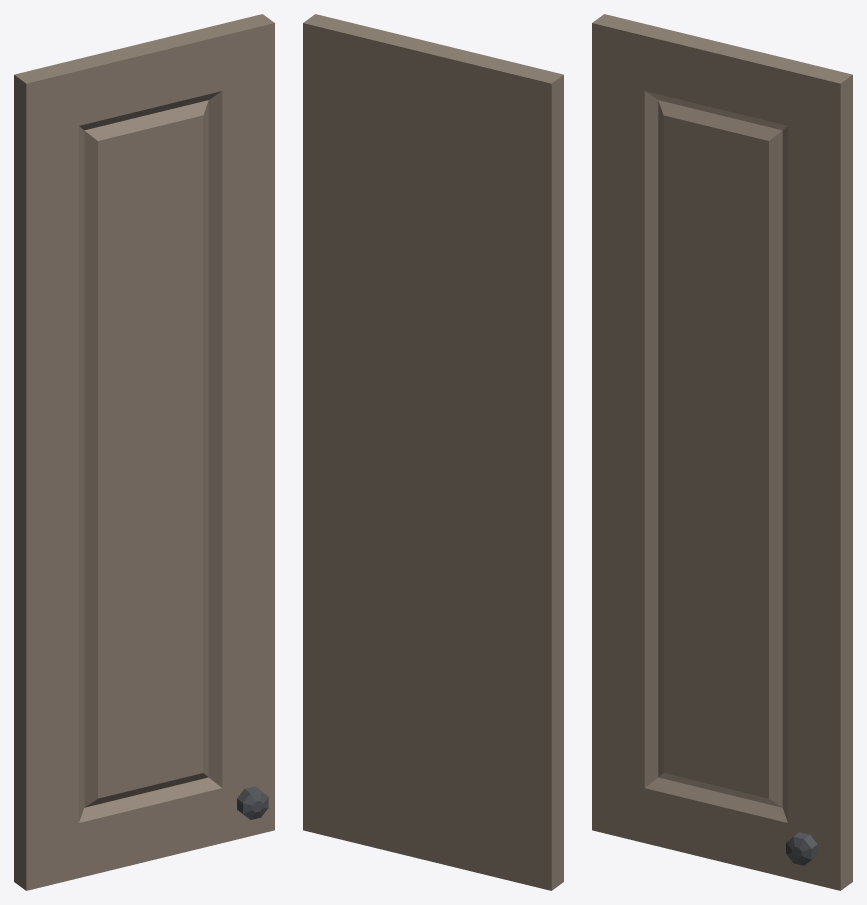
Rendered from Door3_C5_14.fbx.
The picture shows the model from 3 angles, left to right: view 1: azimuth 30°, elevation 25°; view 2: azimuth 150°, elevation 25°; view 3: azimuth 330°, elevation 25°; orthographic projection.
Visible parts, largest first — view 1: Door3_C5_14; view 2: Door3_C5_14; view 3: Door3_C5_14.
Boxes of the visible parts, x1,y1,x2,y2 form: Door3_C5_14: (14, 14, 274, 890); Door3_C5_14: (303, 14, 563, 890); Door3_C5_14: (592, 14, 852, 890).
Size of the model in its own units: 29 by 90 by 5.19.
